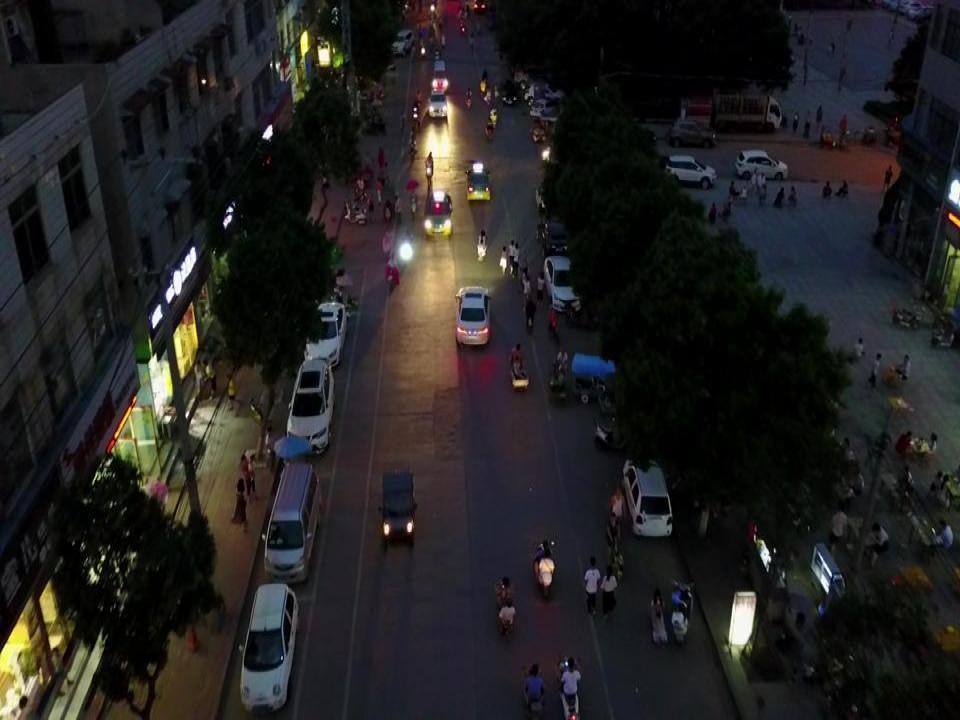car: (240, 583, 295, 709), (291, 359, 327, 452), (301, 303, 346, 357), (542, 253, 583, 310), (456, 285, 488, 347), (662, 155, 715, 188), (665, 117, 717, 148), (736, 149, 785, 180), (538, 219, 573, 256), (424, 191, 450, 233), (465, 166, 492, 198), (531, 96, 561, 116), (426, 89, 446, 117), (394, 24, 411, 56), (500, 78, 517, 105)
truck: (377, 470, 415, 546), (712, 92, 782, 129)
van: (266, 461, 316, 586)
